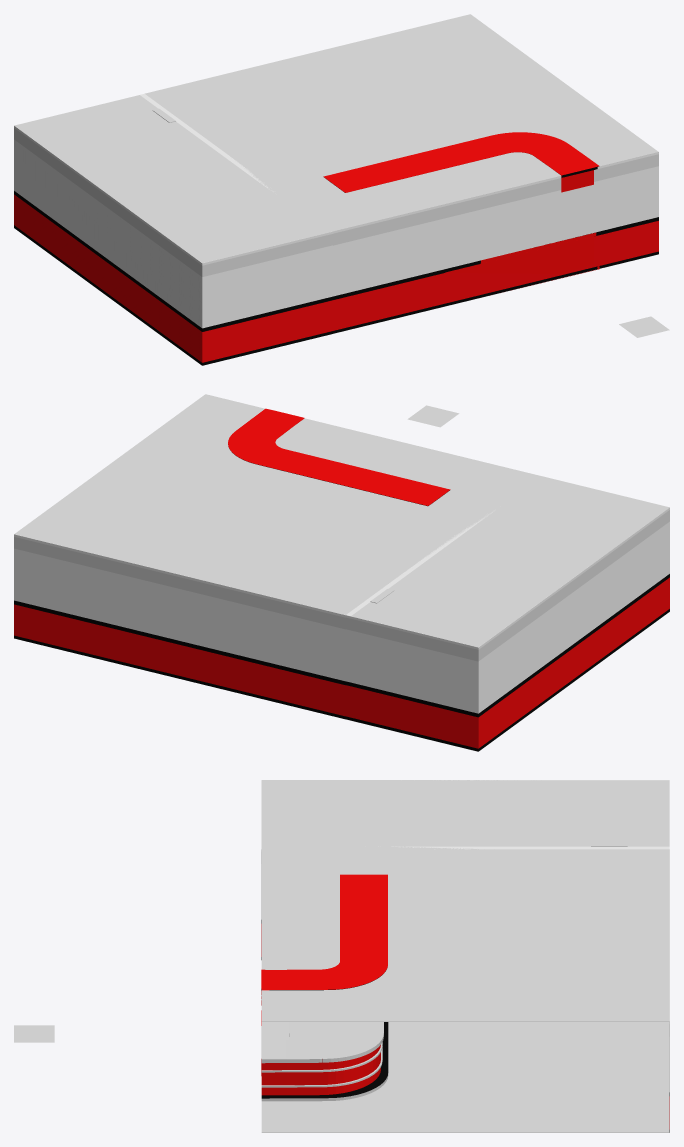
File: Scenev3.fbx
3 views of the same model, one above another, from view 1: azimuth 30°, elevation 25°; view 2: azimuth 150°, elevation 25°; view 3: azimuth 270°, elevation 25° (orthographic). The views are drawn at different scales.
Visible parts, largest first — view 1: Celling, RightWall.001, KitchenCelling, KitchenRightWall, KitchenRightWall.002, Cube.001, Cube, RightWall.002, Plane; view 2: Celling, RightWall, KitchenCelling, KitchenRightWall, KitchenRightWall.001, Cube.001, RightWall.002, Plane; view 3: Celling, Floor, KitchenCelling, Cube, Cube.001, RightWall.002, Plane.
Boxes of the visible parts, left/top/right/bottom form: Celling: left=145, top=14, right=658, bottom=231; RightWall.001: left=333, top=152, right=658, bottom=333; KitchenCelling: left=14, top=95, right=332, bottom=263; KitchenRightWall: left=14, top=125, right=202, bottom=365; KitchenRightWall.002: left=202, top=231, right=332, bottom=365; Cube.001: left=323, top=132, right=599, bottom=192; Cube: left=445, top=232, right=599, bottom=288; RightWall.002: left=140, top=93, right=273, bottom=191; Plane: left=619, top=316, right=669, bottom=337; Celling: left=14, top=394, right=536, bottom=614; RightWall: left=14, top=534, right=345, bottom=719; KitchenCelling: left=351, top=475, right=669, bottom=647; KitchenRightWall: left=478, top=507, right=669, bottom=751; KitchenRightWall.001: left=345, top=615, right=478, bottom=751; Cube.001: left=228, top=408, right=450, bottom=506; RightWall.002: left=345, top=510, right=494, bottom=720; Plane: left=407, top=405, right=459, bottom=427; Celling: left=261, top=849, right=669, bottom=1021; Floor: left=261, top=1022, right=669, bottom=1132; KitchenCelling: left=261, top=780, right=669, bottom=849; Cube: left=261, top=1010, right=388, bottom=1101; Cube.001: left=261, top=874, right=387, bottom=1005; RightWall.002: left=378, top=846, right=669, bottom=849; Plane: left=14, top=1025, right=54, bottom=1042.
Size of the model in its own units: 2801 by 606 by 3214.
